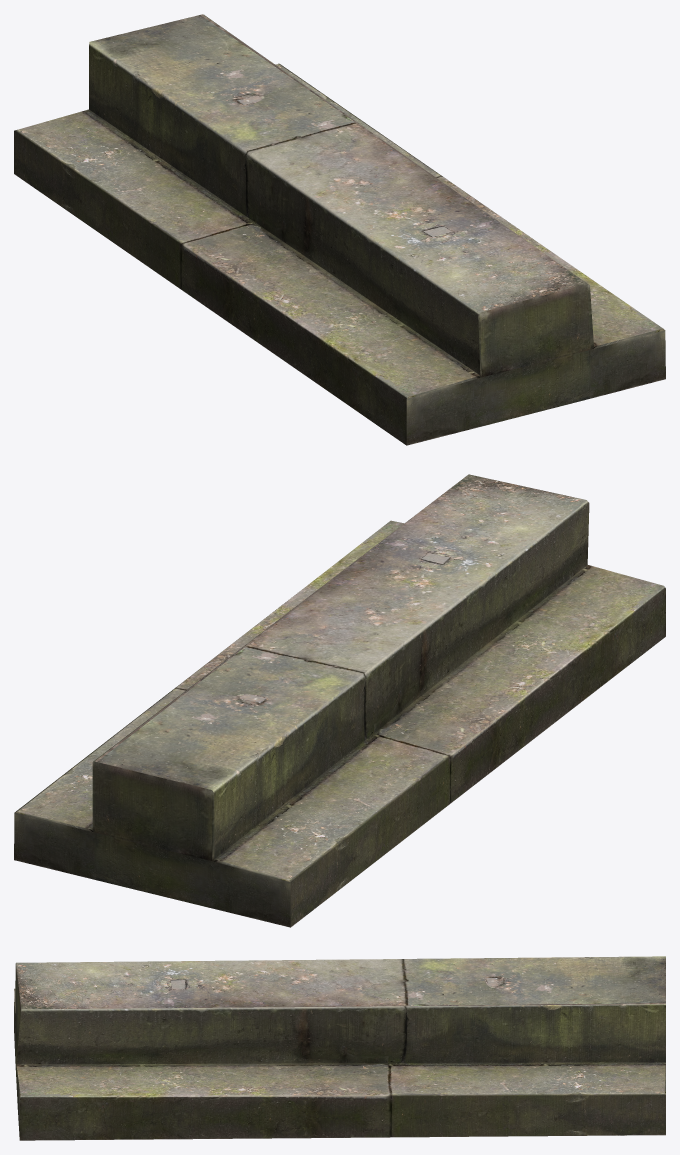
Rendered from sm_PlatformPillars_01_02.fbx.
The picture shows the model from 3 angles, top to bottom: view 1: azimuth 30°, elevation 25°; view 2: azimuth 150°, elevation 25°; view 3: azimuth 270°, elevation 25°; orthographic projection. The views are drawn at different scales.
Visible parts, largest first — view 1: sm_PlatformPillars_01_02_LOD0; view 2: sm_PlatformPillars_01_02_LOD0; view 3: sm_PlatformPillars_01_02_LOD0.
Part boxes in pixels (left/top/right/bottom): sm_PlatformPillars_01_02_LOD0: left=14, top=14, right=665, bottom=445; sm_PlatformPillars_01_02_LOD0: left=14, top=474, right=665, bottom=927; sm_PlatformPillars_01_02_LOD0: left=14, top=956, right=665, bottom=1140.
Size of the model in its own units: 76.58 by 179 by 29.88.
